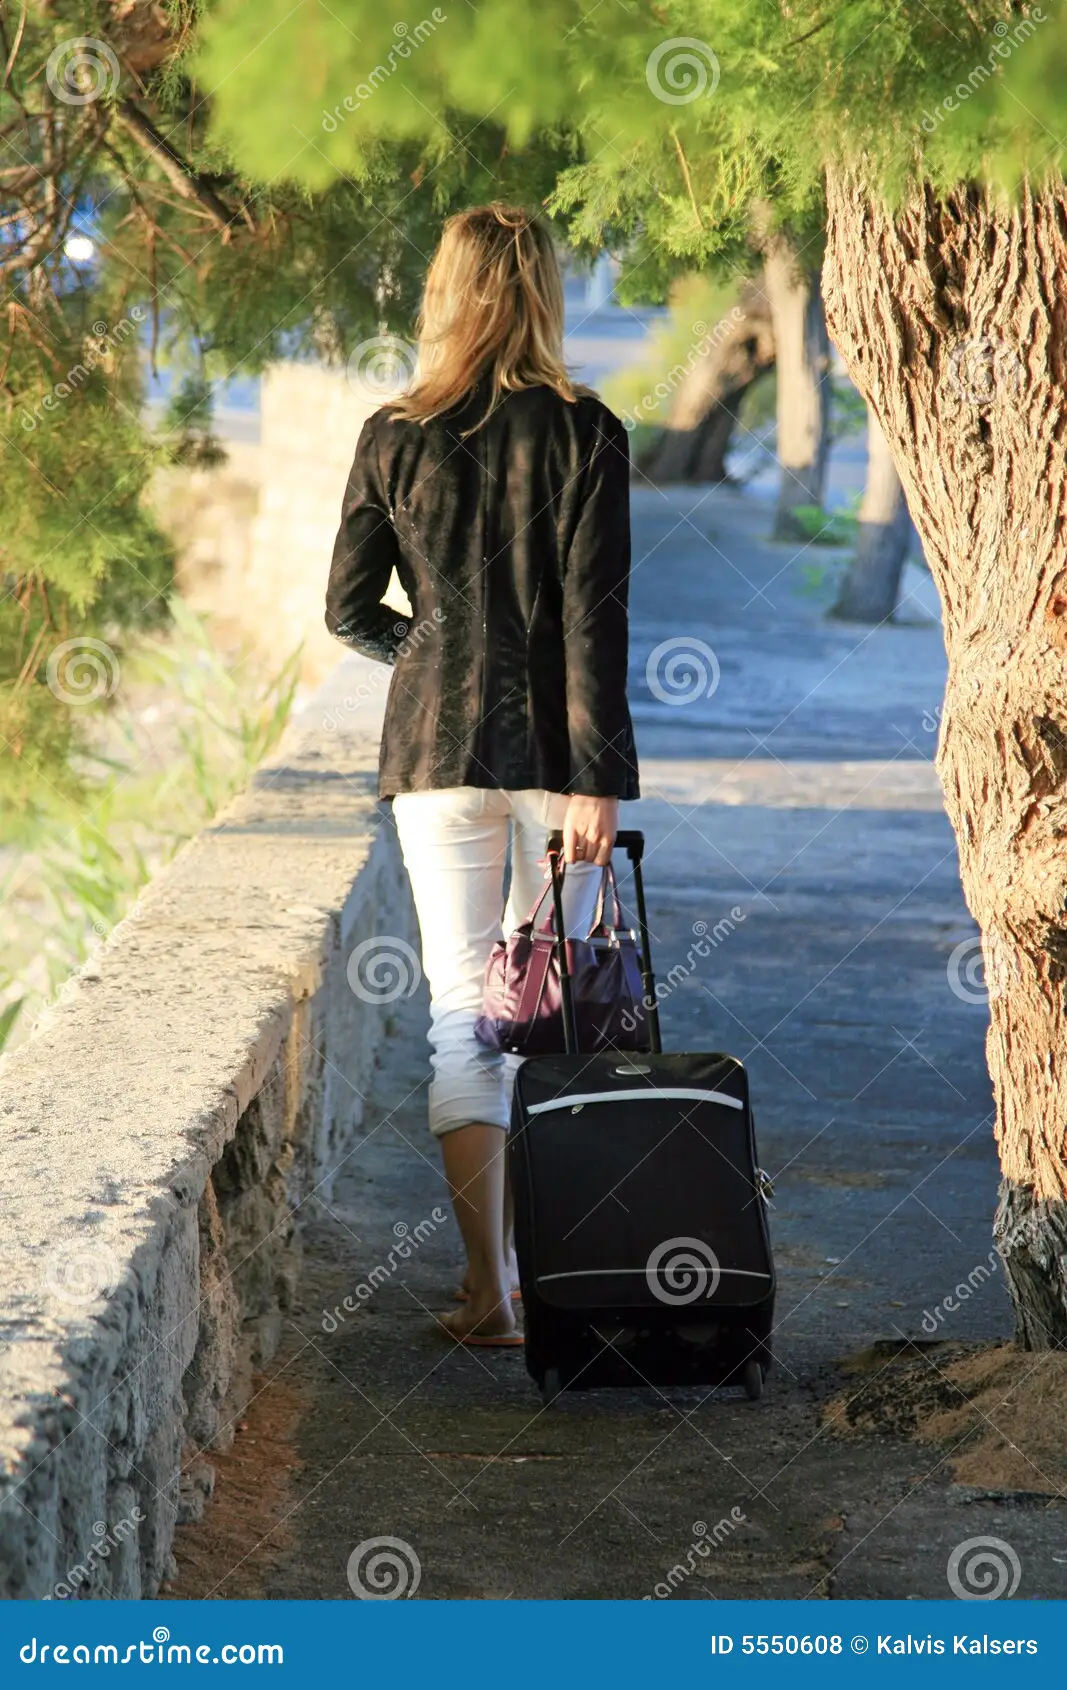person: (333, 204, 655, 1354)
